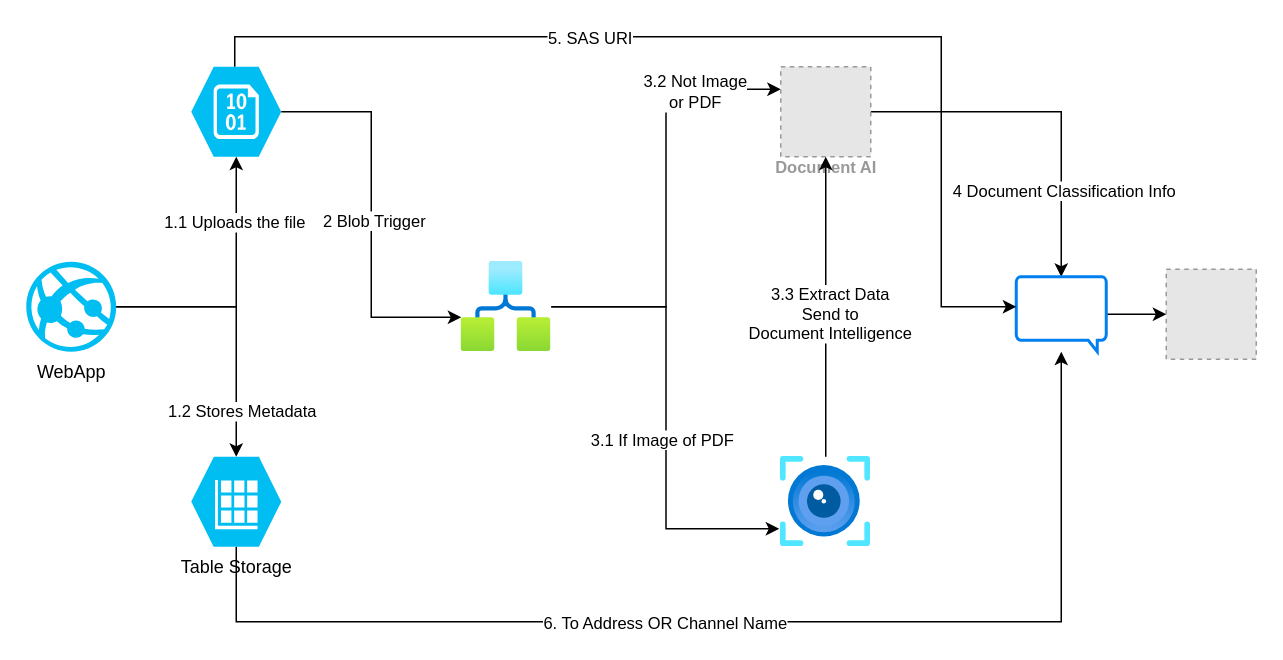
Some shapes in this 1283 by 660 pixel diagram are drawn without their labels. Grey dashed boxes stand in for pictures. Here are the shapes that lost their labels. From the top down, the centre of each, then its label:
At [235,111]: "Blob Storage".
At [1060,313]: "Classify Doc".
